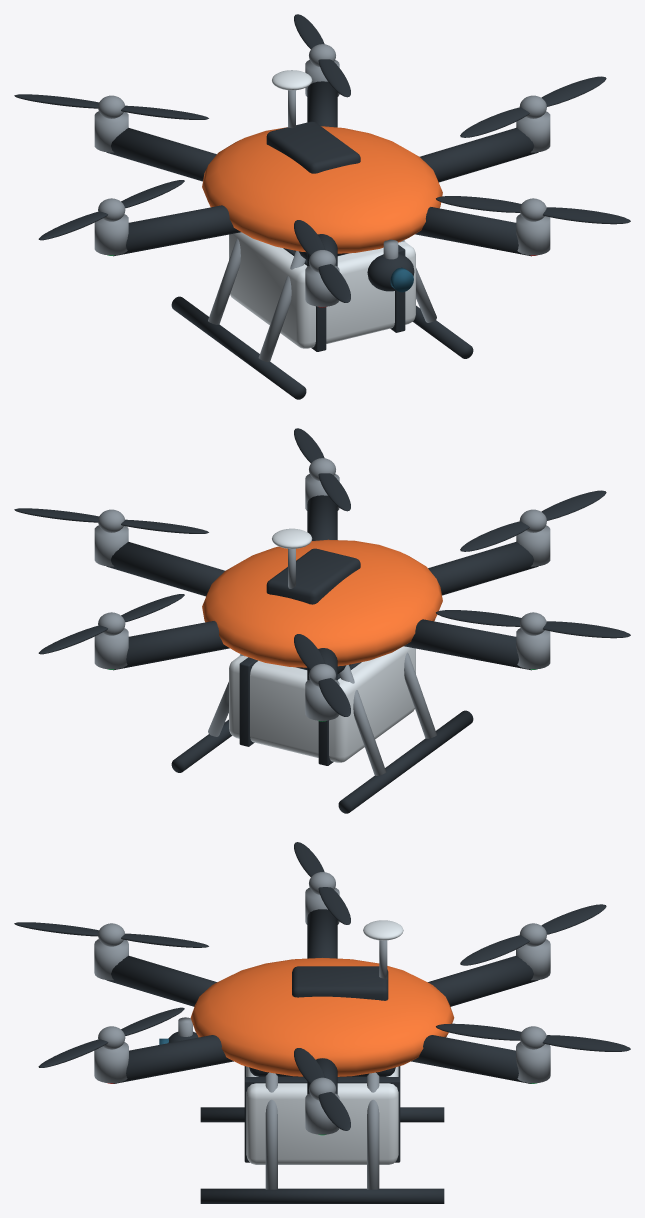
The model's file is hexacopter_cargo.glb.
3 renders of one model, top to bottom at view 1: azimuth 30°, elevation 25°; view 2: azimuth 150°, elevation 25°; view 3: azimuth 270°, elevation 25°, orthographic.
Visible parts, largest first — view 1: Upper_shell, Cargo_case, Arm_03, Arm_00, Arm_02, Battery, Arm_05, Landing_skid, Rotor_05, Rotor_00, Rotor_04, Rotor_02 (+15 smaller); view 2: Upper_shell, Cargo_case, Arm_03, Arm_00, Arm_04, Battery, Arm_01, Landing_skid, Rotor_03, Rotor_04, Rotor_02, Rotor_00 (+15 smaller); view 3: Upper_shell, Cargo_case, Landing_skid.001, Battery, Arm_01, Arm_05, Arm_02, Arm_04, Rotor_01, Rotor_02, Arm_03, Landing_skid (+15 smaller).
Boxes of the visible parts, <box> form: Upper_shell: <box>202,126,442,253</box>; Cargo_case: <box>229,232,415,348</box>; Arm_03: <box>113,205,240,256</box>; Arm_00: <box>419,128,538,182</box>; Arm_02: <box>106,128,216,181</box>; Battery: <box>266,121,360,173</box>; Arm_05: <box>415,207,531,256</box>; Landing_skid: <box>171,296,306,399</box>; Rotor_05: <box>436,196,630,224</box>; Rotor_00: <box>460,76,606,137</box>; Rotor_04: <box>294,220,350,302</box>; Rotor_02: <box>14,94,208,119</box>; Upper_shell: <box>202,539,442,667</box>; Cargo_case: <box>229,646,415,762</box>; Arm_03: <box>404,619,531,670</box>; Arm_00: <box>106,542,225,596</box>; Arm_04: <box>428,542,538,595</box>; Battery: <box>266,548,360,604</box>; Arm_01: <box>113,621,229,670</box>; Landing_skid: <box>338,710,473,813</box>; Rotor_03: <box>436,610,630,638</box>; Rotor_04: <box>460,490,606,551</box>; Rotor_02: <box>294,634,350,716</box>; Rotor_00: <box>14,508,208,533</box>; Upper_shell: <box>190,958,454,1076</box>; Cargo_case: <box>246,1066,398,1164</box>; Landing_skid.001: <box>200,1188,444,1203</box>; Battery: <box>292,966,388,1000</box>; Arm_01: <box>411,1035,531,1083</box>; Arm_05: <box>113,1035,233,1083</box>; Arm_02: <box>428,955,538,1006</box>; Arm_04: <box>106,955,216,1006</box>; Rotor_01: <box>436,1023,630,1051</box>; Rotor_02: <box>460,904,606,965</box>; Arm_03: <box>307,909,337,958</box>; Landing_skid: <box>200,1107,444,1122</box>.
Bounding box in the file's own units: 1.35 × 0.517 × 1.22.
